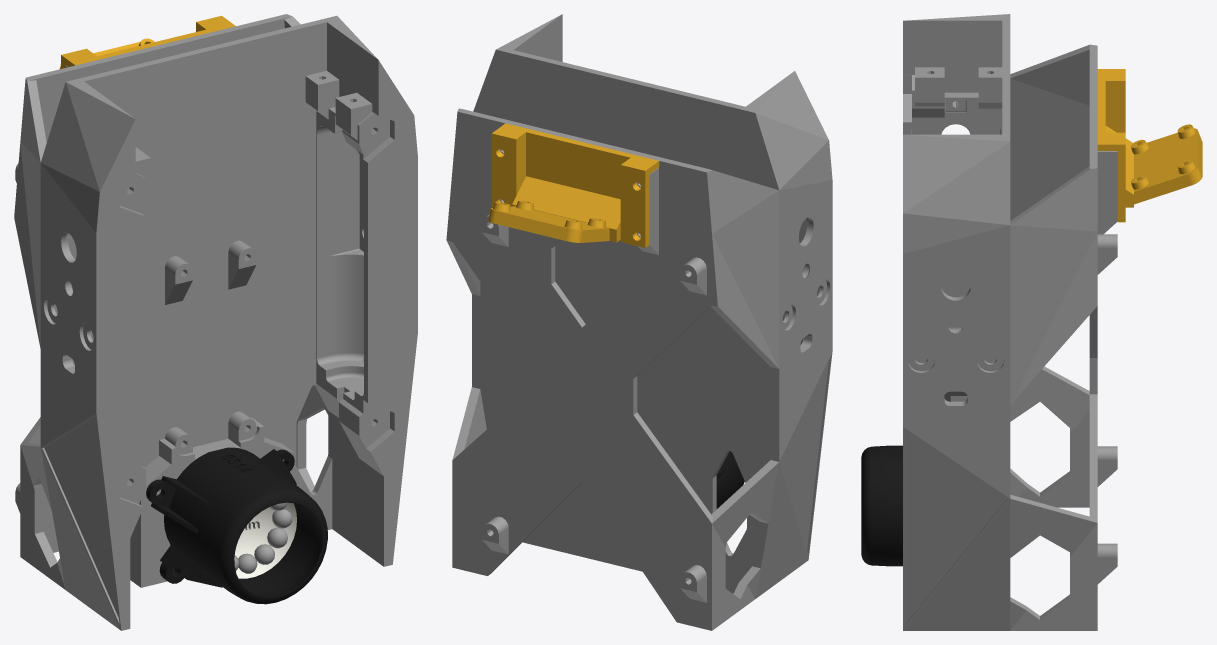
The model's file is jetbot_65mm.fbx.
3 renders of one model, left to right at view 1: azimuth 30°, elevation 25°; view 2: azimuth 150°, elevation 25°; view 3: azimuth 270°, elevation 25°, orthographic. The views are drawn at different scales.
Visible parts, largest first — view 1: JetBot-v5 v7; view 2: JetBot-v5 v7; view 3: JetBot-v5 v7.
Boxes of the visible parts, x1,y1,x2,y2 form: JetBot-v5 v7: (14,14,417,630); JetBot-v5 v7: (446,14,832,630); JetBot-v5 v7: (861,14,1202,630).
Size of the model in its own units: 90 by 136 by 85.87.
